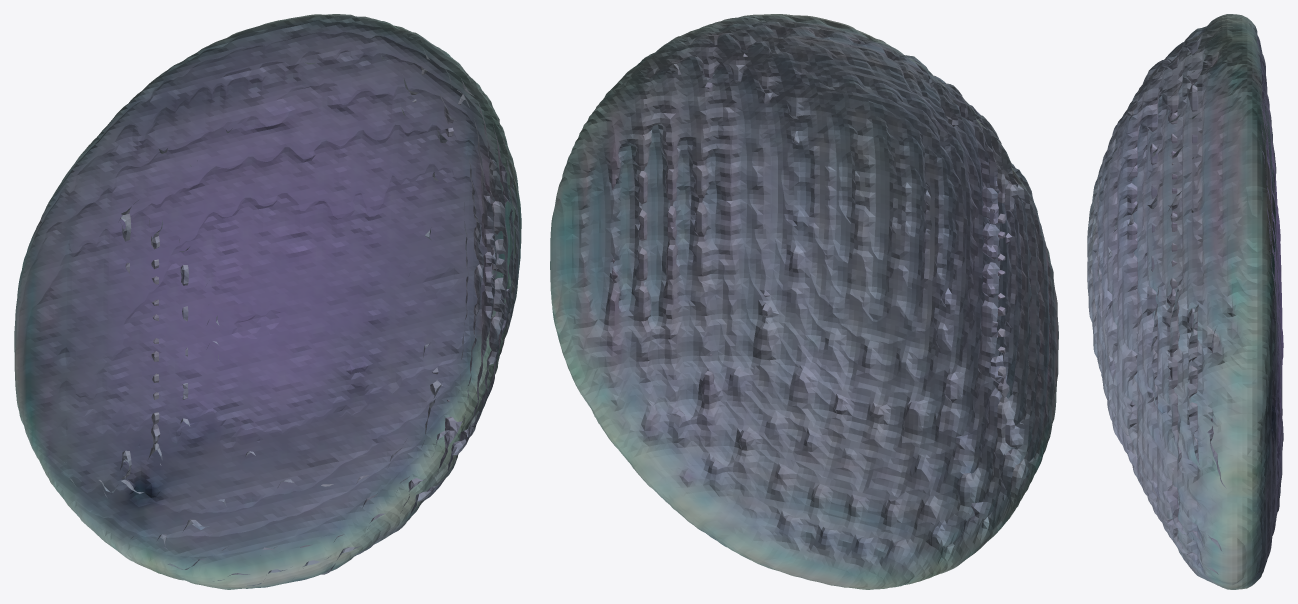
The picture shows the model from 3 angles, left to right: view 1: azimuth 30°, elevation 25°; view 2: azimuth 150°, elevation 25°; view 3: azimuth 270°, elevation 25°; orthographic projection. The views are drawn at different scales.
Parts seen in each view (by area): view 1: geometry_0; view 2: geometry_0; view 3: geometry_0.
Boxes of the visible parts, box(x1,y1,x2,y2) form: geometry_0: box(14, 14, 521, 589); geometry_0: box(550, 14, 1058, 589); geometry_0: box(1087, 14, 1283, 589).
Size of the model in its own units: 1.51 by 1.6 by 0.5418.
